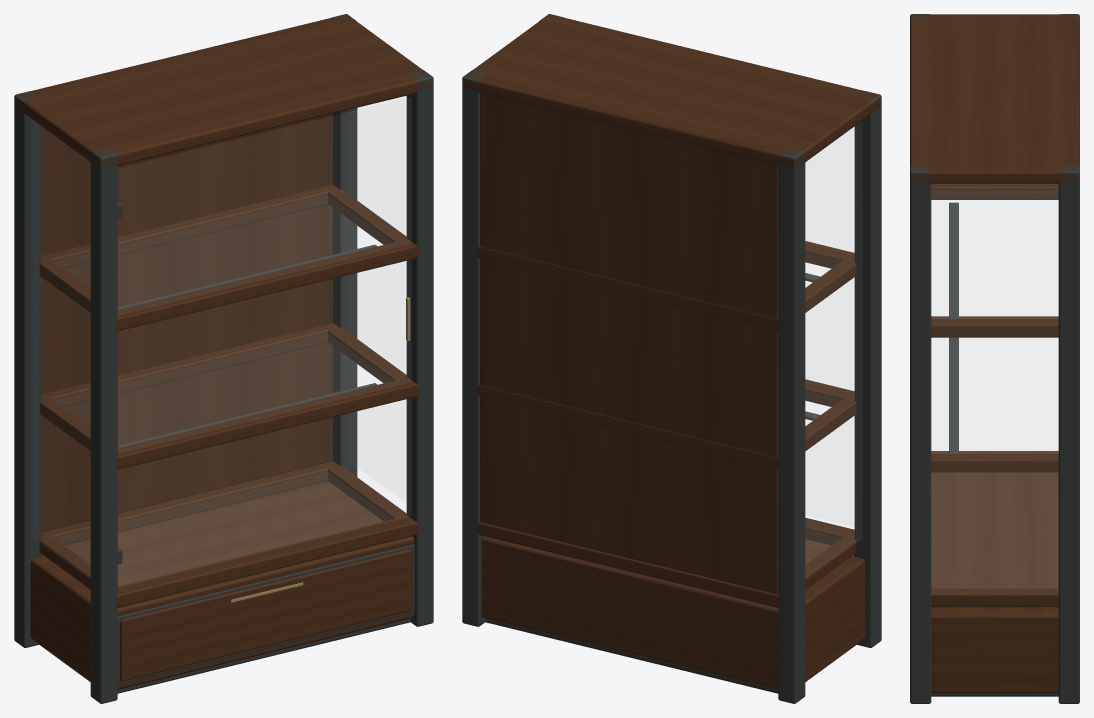
File: stitch-display-cabinet.glb
3 views of the same model, side by side, from view 1: azimuth 30°, elevation 25°; view 2: azimuth 150°, elevation 25°; view 3: azimuth 270°, elevation 25° (orthographic). The views are drawn at different scales.
Parts seen in each view (by area): view 1: Cabinet / Oiled walnut / longitudinal veneer, Cabinet / Low iron glass, Cabinet / Satin charcoal / powder coat; view 2: Cabinet / Oiled walnut / longitudinal veneer, Cabinet / Satin charcoal / powder coat, Cabinet / Low iron glass; view 3: Cabinet / Oiled walnut / longitudinal veneer, Cabinet / Low iron glass, Cabinet / Satin charcoal / powder coat.
Part boxes in pixels (bbox=[...]): Cabinet / Oiled walnut / longitudinal veneer: bbox=[15, 14, 431, 689]; Cabinet / Low iron glass: bbox=[55, 99, 405, 585]; Cabinet / Satin charcoal / powder coat: bbox=[14, 14, 433, 703]; Cabinet / Oiled walnut / longitudinal veneer: bbox=[464, 14, 880, 689]; Cabinet / Satin charcoal / powder coat: bbox=[462, 14, 881, 703]; Cabinet / Low iron glass: bbox=[806, 128, 853, 563]; Cabinet / Oiled walnut / longitudinal veneer: bbox=[910, 14, 1079, 693]; Cabinet / Low iron glass: bbox=[932, 190, 1057, 587]; Cabinet / Satin charcoal / powder coat: bbox=[910, 14, 1079, 703].
Bounding box in the file's own units: 1.06 × 1.66 × 0.48.
Materials: 5 (1 with a texture image).
